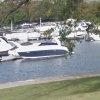Boat: (4, 18, 81, 71)
